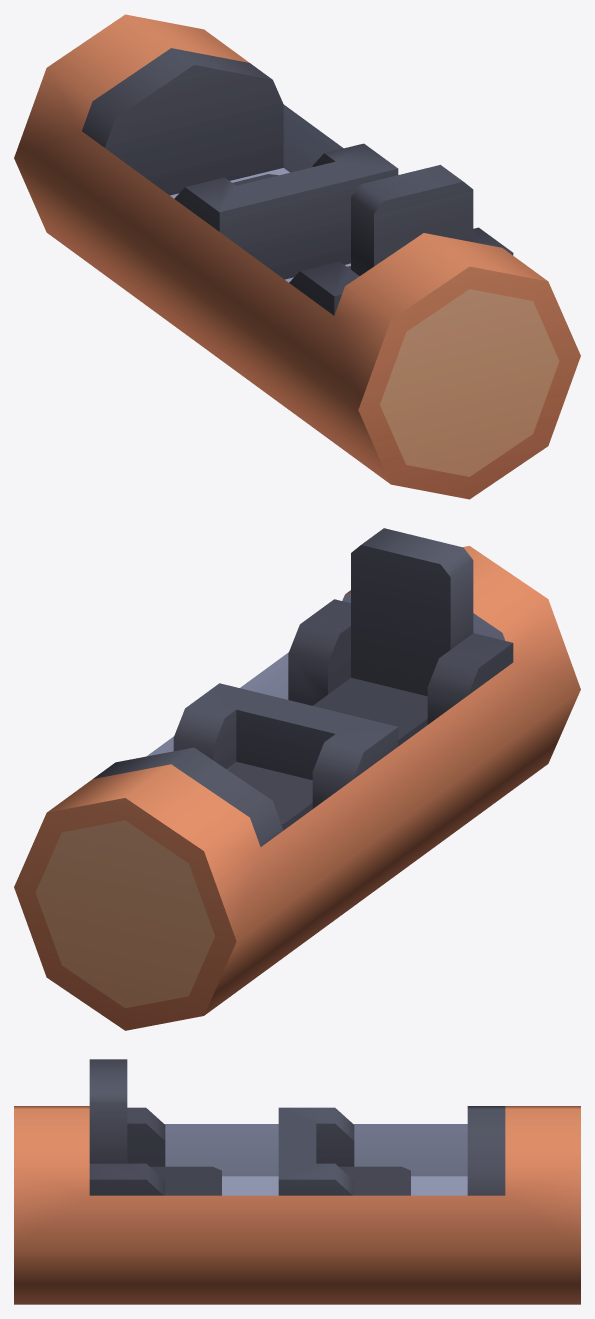
File: kenney-coaster-train-log-flume.glb
3 views of the same model, one above another, from view 1: azimuth 30°, elevation 25°; view 2: azimuth 150°, elevation 25°; view 3: azimuth 270°, elevation 25° (orthographic). The views are drawn at different scales.
Visible parts, largest first — view 1: train-log-flume; view 2: train-log-flume; view 3: train-log-flume.
Part boxes in pixels (left/top/right/bottom): train-log-flume: left=14, top=14, right=580, bottom=499; train-log-flume: left=14, top=528, right=580, bottom=1030; train-log-flume: left=14, top=1059, right=580, bottom=1304.
Size of the model in its own units: 0.56 by 0.66 by 1.5.
1 material, 1 textured.
